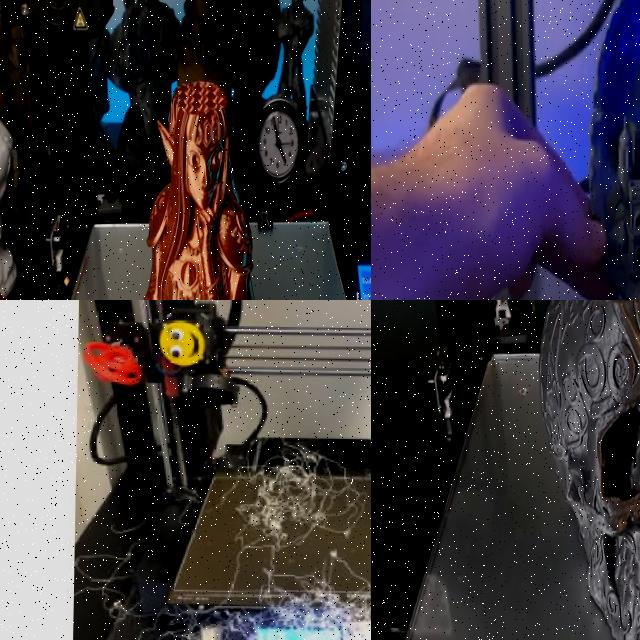spaghetti: (145, 415, 371, 584)
